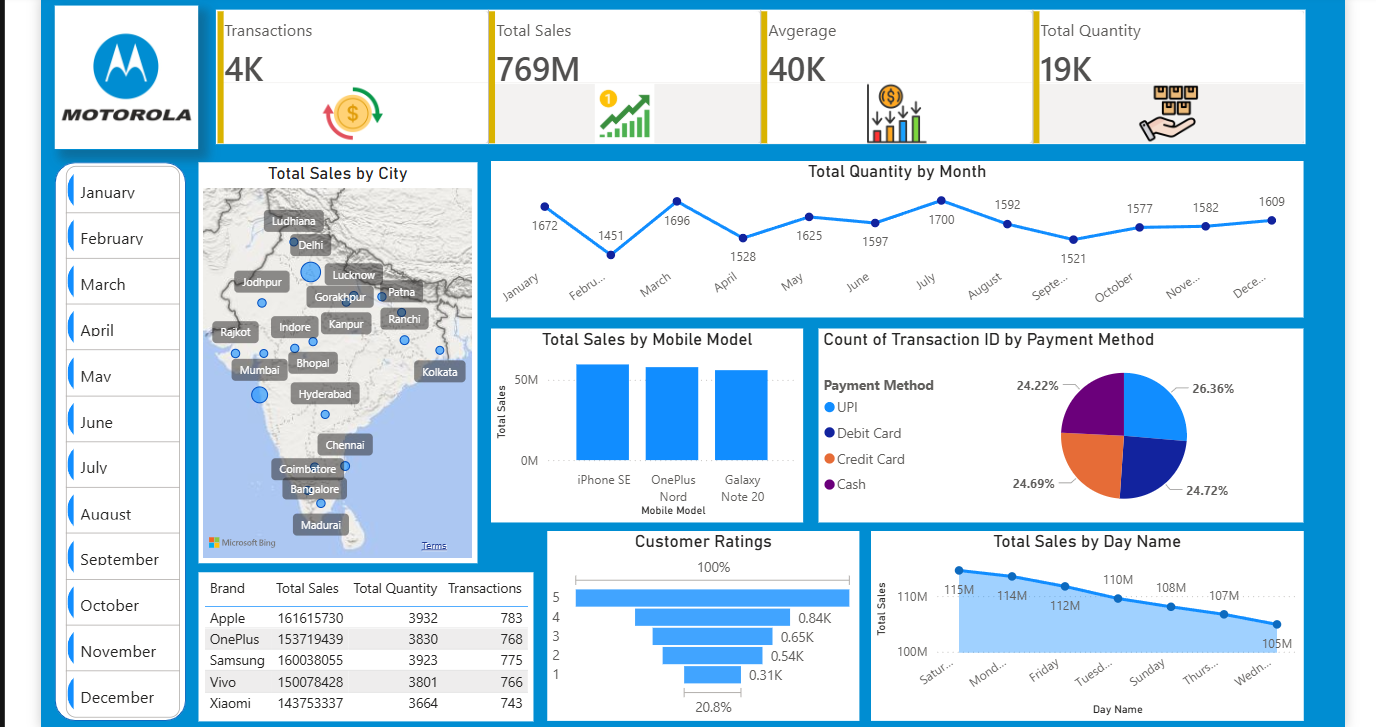

The page's visual inventory and layout, read from the dashboard file:
{"tool":"powerbi","page":{"name":"Page 1","canvas":[1280,720],"ordinal":0},"visuals":[{"type":"image","box":[13.5,8.6,141.1,142.3],"z":0},{"type":"shape","box":[13.5,163.2,128.8,548.5],"z":1000},{"type":"advancedSlicerVisual","fields":{"Values":["Sheet1.Date.Variation.Date Hierarchy.Month"]},"box":[19.6,162,122.7,552.2],"z":2000},{"type":"cardVisual","fields":{"Data":["Sales_data.Transactions","Sales_data.Total Sales","Sales_data.Avgerage","Sales_data.Total Quantity"]},"box":[166.9,8.6,1082.2,142.3],"z":3000},{"type":"map","fields":{"Category":["Sales_data.City"],"Size":["Sales_data.Total Sales"]},"box":[154.6,163.2,273.6,392.6],"z":4000},{"type":"lineChart","fields":{"Category":["Sales_data.Date.Variation.Date Hierarchy.Month","Sales_data.Date.Variation.Date Hierarchy.Day"],"Y":["Sales_data.Total Quantity"]},"box":[441.7,162,797.6,153.4],"z":5000},{"type":"clusteredColumnChart","fields":{"Category":["Sales_data.Mobile Model"],"Y":["Sales_data.Total Sales"]},"box":[441.7,326.4,306.8,190.2],"z":6000},{"type":"pieChart","fields":{"Category":["Sales_data.Payment Method"],"Y":["CountNonNull(Sales_data.Transaction ID)"]},"box":[763.2,326.4,476.1,190.2],"z":7000},{"type":"funnel","title":"Customer Ratings","fields":{"Category":["Sales_data.Customer Ratings"],"Y":["CountNonNull(Sales_data.Customer Ratings)"]},"box":[496.9,525.2,306.8,186.5],"z":8000},{"type":"areaChart","fields":{"Category":["Sales_data.Day Name"],"Y":["Sales_data.Total Sales"]},"box":[814.7,525.2,424.5,186.5],"z":9000},{"type":"tableEx","fields":{"Values":["Sales_data.Brand","Sales_data.Total Sales","Sales_data.Total Quantity","Sales_data.Transactions"]},"box":[154.6,565.6,328.8,146],"z":10000}]}

Visuals, with their boxes in screenshot pixels (x1, y1, x2, y2):
image: (left=46, top=0, right=192, bottom=145)
shape: (left=46, top=158, right=179, bottom=724)
advancedSlicerVisual - Sheet1.Date.Variation.Date Hierarchy.Month: (left=52, top=157, right=179, bottom=726)
cardVisual - Sales_data.Transactions x Sales_data.Total Sales: (left=205, top=0, right=1323, bottom=145)
map - Sales_data.City x Sales_data.Total Sales: (left=192, top=158, right=475, bottom=563)
lineChart - Sales_data.Date.Variation.Date Hierarchy.Month x Sales_data.Date.Variation.Date Hierarchy.Day: (left=489, top=157, right=1312, bottom=315)
clusteredColumnChart - Sales_data.Mobile Model x Sales_data.Total Sales: (left=489, top=326, right=805, bottom=523)
pieChart - Sales_data.Payment Method x CountNonNull(Sales_data.Transaction ID): (left=821, top=326, right=1312, bottom=523)
"Customer Ratings" funnel: (left=546, top=532, right=862, bottom=724)
areaChart - Sales_data.Day Name x Sales_data.Total Sales: (left=874, top=532, right=1312, bottom=724)
tableEx - Sales_data.Brand x Sales_data.Total Sales: (left=192, top=573, right=532, bottom=724)
